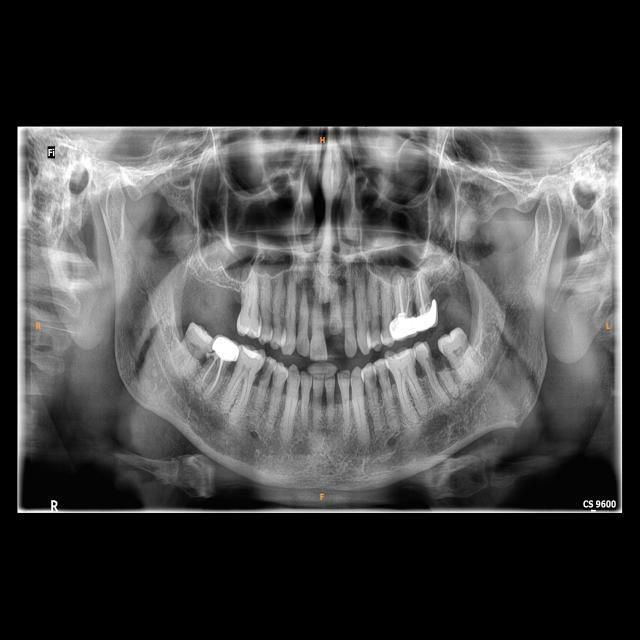dentin-curugu: (416, 344, 451, 377), (256, 354, 274, 384)
kanal-tedavisi: (202, 357, 224, 391), (393, 275, 412, 314), (413, 274, 429, 310)
kaplama: (411, 301, 442, 333), (210, 336, 240, 366), (387, 314, 419, 338)
kirik: (326, 321, 346, 342)
